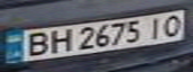2: (75, 24, 96, 51)
5: (124, 18, 148, 44)
6: (93, 21, 115, 48)
7: (109, 20, 130, 46)
B: (18, 29, 54, 57)
H: (45, 27, 75, 54)
I: (142, 15, 169, 39)
O: (157, 12, 187, 37)
